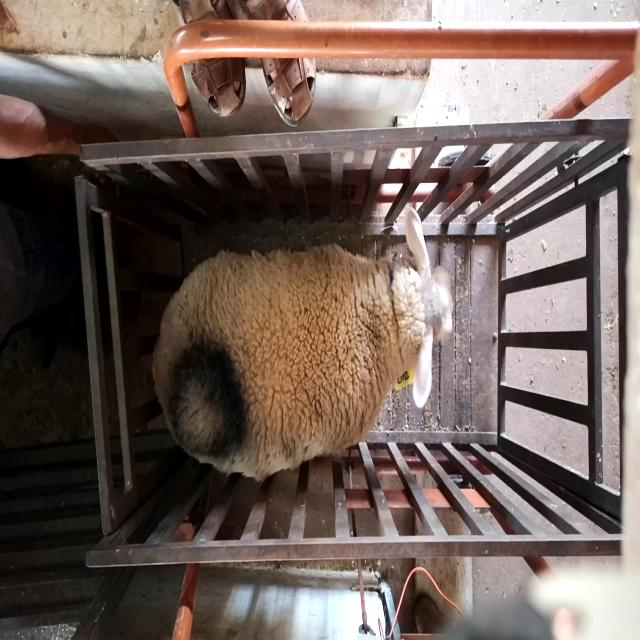sheep: (152, 208, 453, 479)
